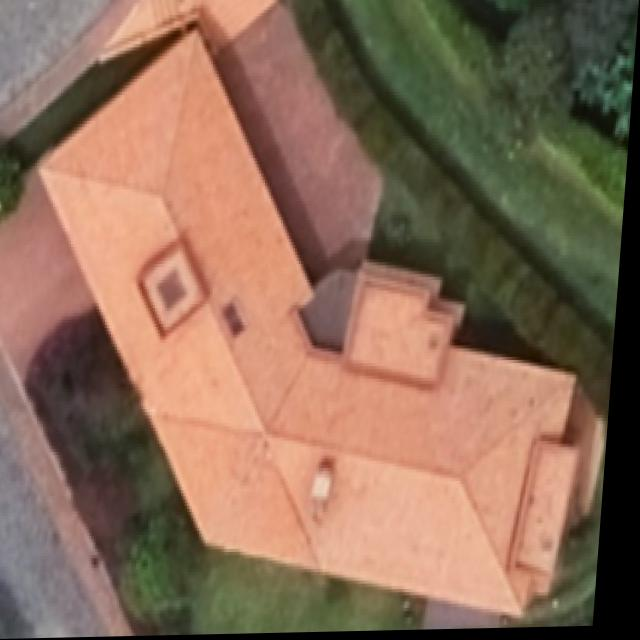Batiment: (45, 32, 608, 616)
